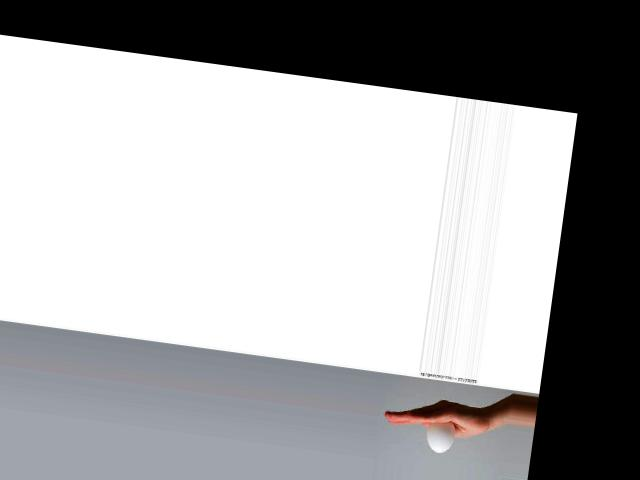egg: (425, 418, 455, 454)
